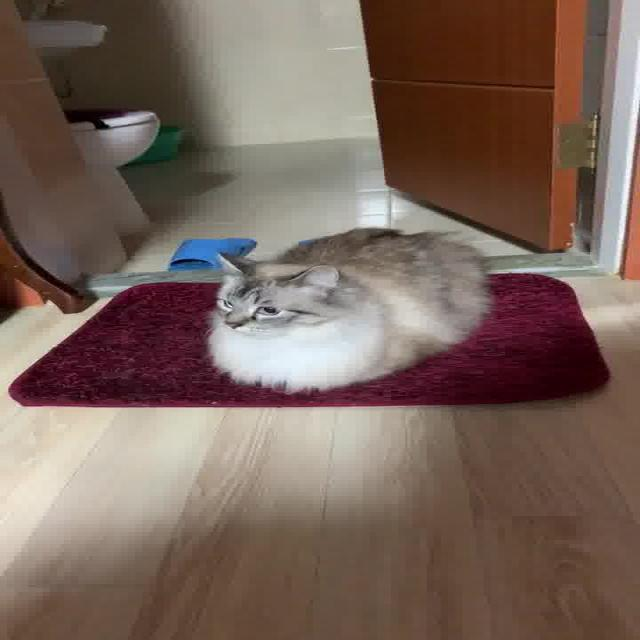cat: (188, 218, 502, 388)
